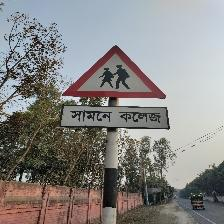College-in-front: (57, 41, 178, 153)
